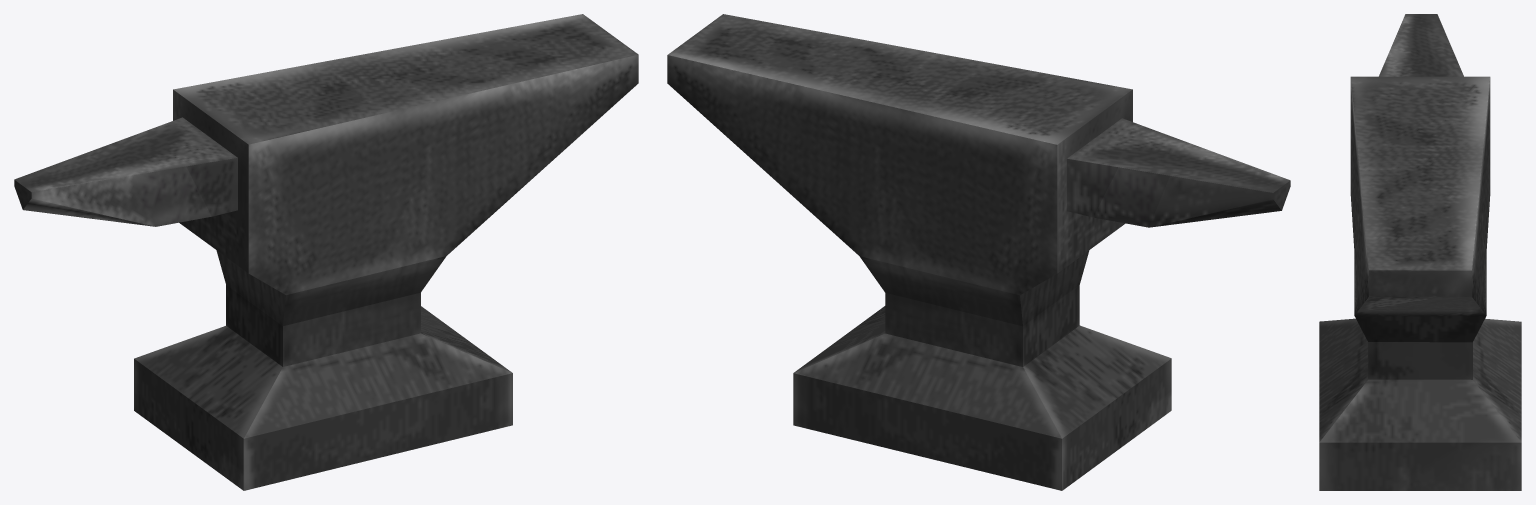
The model's file is Anvil.fbx.
3 views of the same model, side by side, from view 1: azimuth 30°, elevation 25°; view 2: azimuth 150°, elevation 25°; view 3: azimuth 270°, elevation 25° (orthographic). The views are drawn at different scales.
Parts seen in each view (by area): view 1: Anvil; view 2: Anvil; view 3: Anvil.
Part boxes in pixels (x1,y1,x2,y2): Anvil: (14, 14, 638, 490); Anvil: (667, 14, 1290, 490); Anvil: (1319, 14, 1521, 490).
Bounding box in the file's own units: 161 × 86.18 × 52.16.
1 material, 1 textured.
